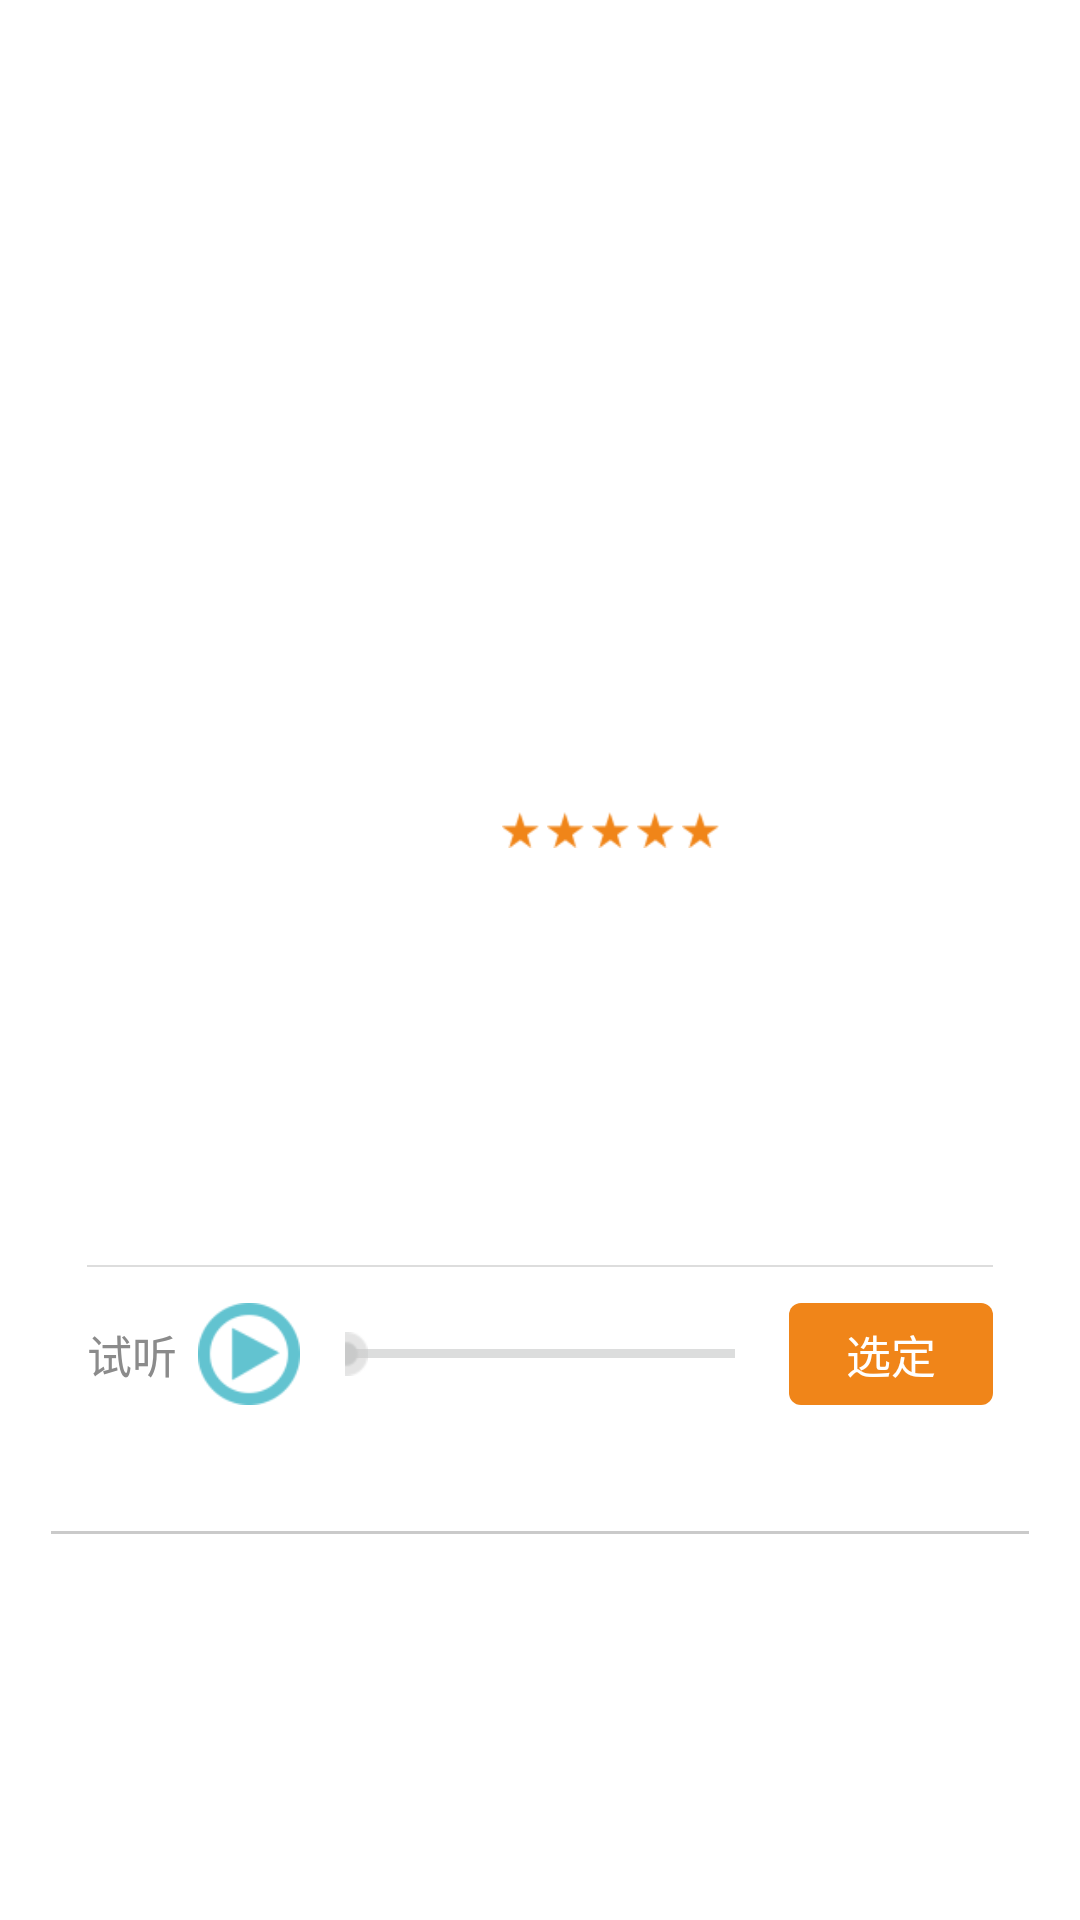

Icons on this 1080 x 1920 Android screen, each with the point to tap as point (x, y):
star full: point (520, 830), point (565, 830), point (610, 830), point (655, 830), point (700, 830)
try guide play: point (249, 1354)
